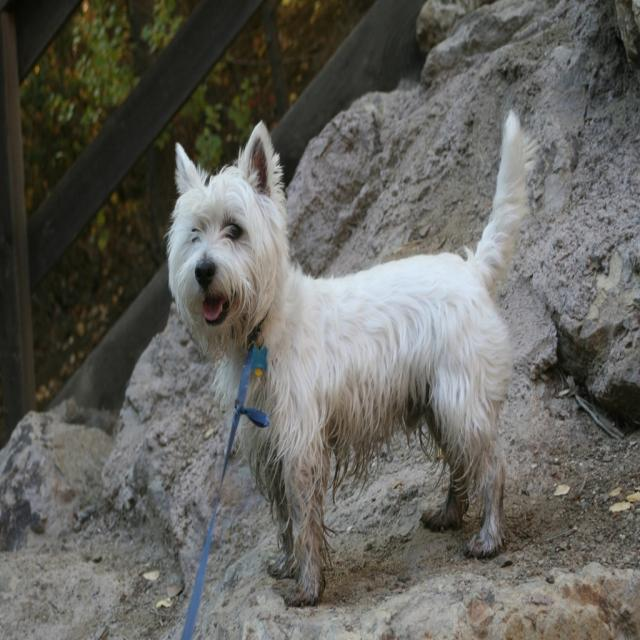Dog: (163, 104, 538, 606)
